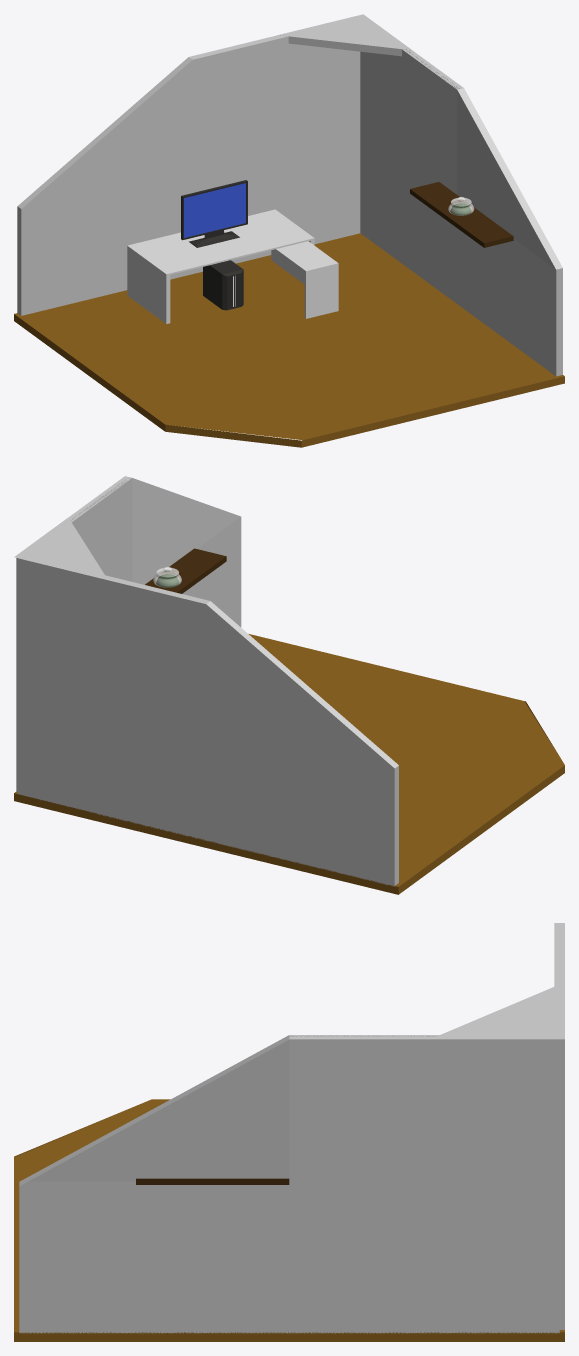
Rendered from room4.glb.
3 views of the same model, one above another, from view 1: azimuth 30°, elevation 25°; view 2: azimuth 150°, elevation 25°; view 3: azimuth 270°, elevation 25° (orthographic). The views are drawn at different scales.
Visible parts, largest first — view 1: Cube.004, Floor.001, Floor.002, Cube, Cube.001, Floor.003, Cube.002, Cube.003, PC; view 2: Floor.001, Cube.004, Floor.002, Floor.003, Cube.003; view 3: Floor.002, Cube.004, Floor.003, Floor.001, Cube.003.
Boxes of the visible parts, left/top/right/bottom form: Cube.004: left=14, top=233, right=564, bottom=447; Floor.001: left=17, top=35, right=360, bottom=315; Floor.002: left=360, top=49, right=562, bottom=376; Cube: left=127, top=209, right=314, bottom=323; Cube.001: left=181, top=180, right=247, bottom=247; Floor.003: left=278, top=14, right=412, bottom=56; Cube.002: left=274, top=241, right=338, bottom=318; Cube.003: left=410, top=182, right=513, bottom=247; PC: left=203, top=260, right=243, bottom=310; Floor.001: left=17, top=558, right=398, bottom=886; Cube.004: left=14, top=634, right=564, bottom=894; Floor.002: left=16, top=476, right=241, bottom=791; Floor.003: left=14, top=517, right=107, bottom=579; Cube.003: left=145, top=548, right=226, bottom=593; Floor.002: left=19, top=1035, right=559, bottom=1333; Cube.004: left=14, top=1099, right=564, bottom=1341; Floor.003: left=430, top=982, right=564, bottom=1039; Floor.001: left=554, top=923, right=564, bottom=1329; Cube.003: left=136, top=1178, right=289, bottom=1184.
Bounding box in the file's own units: 10.2 × 6.18 × 10.2.
